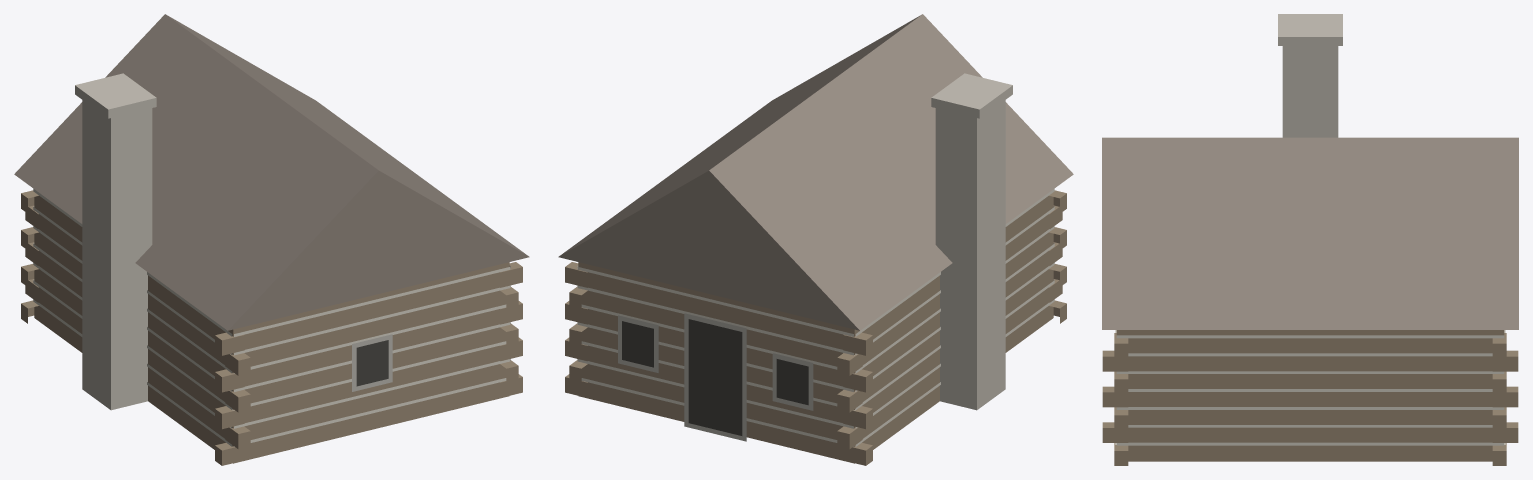
File: recon_1835_south_d1_021__inferred_1835.glb
The picture shows the model from 3 angles, left to right: view 1: azimuth 30°, elevation 25°; view 2: azimuth 150°, elevation 25°; view 3: azimuth 270°, elevation 25°; orthographic projection. The views are drawn at different scales.
Visible parts, largest first — view 1: recon_1835_south_d1_021__inferred_1835; view 2: recon_1835_south_d1_021__inferred_1835; view 3: recon_1835_south_d1_021__inferred_1835.
Boxes of the visible parts, <box> form: recon_1835_south_d1_021__inferred_1835: <box>14,14,529,465</box>; recon_1835_south_d1_021__inferred_1835: <box>558,14,1073,465</box>; recon_1835_south_d1_021__inferred_1835: <box>1102,14,1518,465</box>.
Size of the model in its own units: 6.43 by 5.69 by 7.18.
